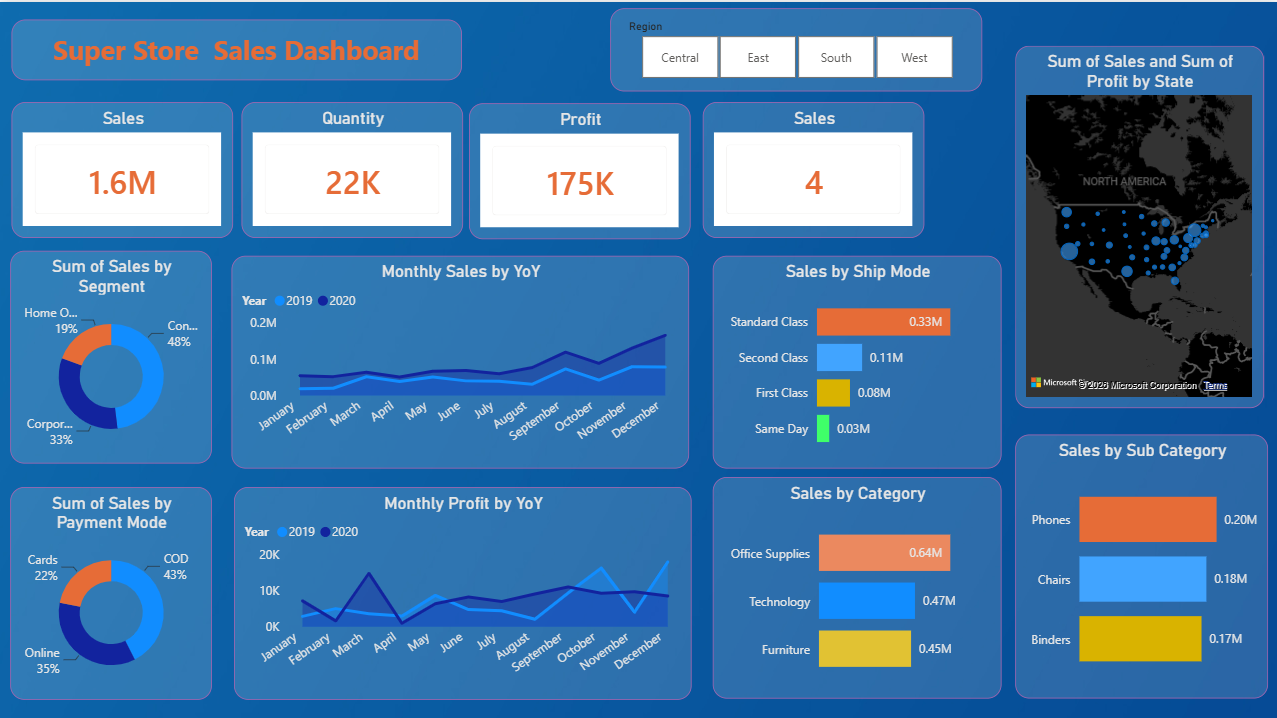

This screenshot's page, from the dashboard's own definition file:
{"tool":"powerbi","page":{"name":"Page 1","canvas":[1280,720],"ordinal":0},"visuals":[{"type":"clusteredBarChart","title":"Sales by Category","fields":{"Category":["SuperStore_Sales_Dataset.Category"],"Y":["Sum(SuperStore_Sales_Dataset.Sales)"]},"box":[714.1,475,289.1,221.9],"z":0},{"type":"clusteredBarChart","title":"Sales by Sub Category","fields":{"Category":["SuperStore_Sales_Dataset.Sub-Category"],"Y":["Sum(SuperStore_Sales_Dataset.Sales)"]},"box":[1015.6,432.8,253.1,264.1],"z":1000},{"type":"clusteredBarChart","title":"Sales by Ship Mode","fields":{"Category":["SuperStore_Sales_Dataset.Ship Mode"],"Y":["Sum(SuperStore_Sales_Dataset.Sales)"]},"box":[714.1,253.1,289.1,212.5],"z":2000},{"type":"areaChart","title":"Monthly Sales by YoY","fields":{"Y":["Sum(SuperStore_Sales_Dataset.Sales)"],"Category":["SuperStore_Sales_Dataset.Order Date.Variation.Date Hierarchy.Month","SuperStore_Sales_Dataset.Order Date.Variation.Date Hierarchy.Day"],"Series":["SuperStore_Sales_Dataset.Order Date.Variation.Date Hierarchy.Year"]},"box":[232.8,253.1,457.8,212.5],"z":3000},{"type":"areaChart","title":"Monthly Profit by YoY","fields":{"Category":["SuperStore_Sales_Dataset.Order Date.Variation.Date Hierarchy.Month","SuperStore_Sales_Dataset.Order Date.Variation.Date Hierarchy.Day"],"Series":["SuperStore_Sales_Dataset.Order Date.Variation.Date Hierarchy.Year"],"Y":["Sum(SuperStore_Sales_Dataset.Profit)"]},"box":[234.4,484.4,457.8,212.5],"z":4000},{"type":"map","fields":{"Category":["SuperStore_Sales_Dataset.State"],"Size":["Sum(SuperStore_Sales_Dataset.Sales)"]},"box":[1015.6,43.8,248.4,362.5],"z":5000},{"type":"donutChart","fields":{"Category":["SuperStore_Sales_Dataset.Segment"],"Y":["Sum(SuperStore_Sales_Dataset.Sales)"]},"box":[10.9,248.4,201.6,212.5],"z":6000},{"type":"donutChart","fields":{"Category":["SuperStore_Sales_Dataset.Payment Mode"],"Y":["Sum(SuperStore_Sales_Dataset.Sales)"]},"box":[10.9,484.4,201.6,212.5],"z":7000},{"type":"slicer","fields":{"Values":["SuperStore_Sales_Dataset.Region"]},"box":[610.9,6.2,371.9,82.8],"z":8000},{"type":"textbox","box":[12.5,17.2,450,60.9],"z":9000},{"type":"cardVisual","title":"Sales","fields":{"Data":["Sum(SuperStore_Sales_Dataset.Sales)"]},"box":[12.5,100,221.9,135.9],"z":10000},{"type":"cardVisual","title":"Quantity","fields":{"Data":["Sum(SuperStore_Sales_Dataset.Quantity)"]},"box":[242.2,100,221.9,135.9],"z":11000},{"type":"cardVisual","title":"Profit","fields":{"Data":["Sum(SuperStore_Sales_Dataset.Profit)"]},"box":[470.3,101.6,221.9,135.9],"z":12000},{"type":"cardVisual","title":"Sales","fields":{"Data":["Avg(SuperStore_Sales_Dataset.AvgDelivery)"]},"box":[703.1,100,221.9,135.9],"z":13000}]}

Visuals, with their boxes in screenshot pixels (x1, y1, x2, y2), scaled from the page's 1280x720 canvas onto the 1277x718 screenshot:
"Sales by Category" clusteredBarChart: left=712, top=474, right=1001, bottom=695
"Sales by Sub Category" clusteredBarChart: left=1013, top=432, right=1266, bottom=695
"Sales by Ship Mode" clusteredBarChart: left=712, top=252, right=1001, bottom=464
"Monthly Sales by YoY" areaChart: left=232, top=252, right=689, bottom=464
"Monthly Profit by YoY" areaChart: left=234, top=483, right=691, bottom=695
map - SuperStore_Sales_Dataset.State x Sum(SuperStore_Sales_Dataset.Sales): left=1013, top=44, right=1261, bottom=405
donutChart - SuperStore_Sales_Dataset.Segment x Sum(SuperStore_Sales_Dataset.Sales): left=11, top=248, right=212, bottom=460
donutChart - SuperStore_Sales_Dataset.Payment Mode x Sum(SuperStore_Sales_Dataset.Sales): left=11, top=483, right=212, bottom=695
slicer - SuperStore_Sales_Dataset.Region: left=609, top=6, right=980, bottom=89
textbox: left=12, top=17, right=461, bottom=78
"Sales" cardVisual: left=12, top=100, right=234, bottom=235
"Quantity" cardVisual: left=242, top=100, right=463, bottom=235
"Profit" cardVisual: left=469, top=101, right=691, bottom=237
"Sales" cardVisual: left=701, top=100, right=923, bottom=235
